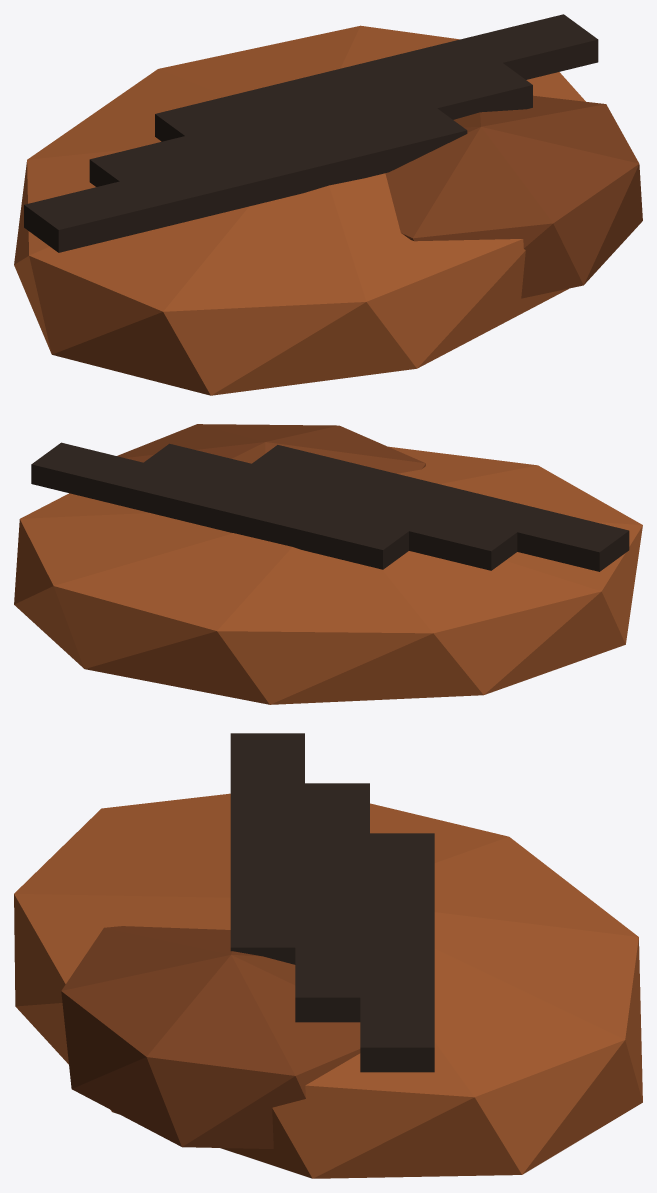
File: drop_steak_cooked.glb
The picture shows the model from 3 angles, top to bottom: view 1: azimuth 30°, elevation 25°; view 2: azimuth 150°, elevation 25°; view 3: azimuth 270°, elevation 25°; orthographic projection. The views are drawn at different scales.
Parts seen in each view (by area): view 1: drop_steak_cooked; view 2: drop_steak_cooked; view 3: drop_steak_cooked.
Part boxes in pixels (x1,y1,x2,y2): drop_steak_cooked: (14,14,642,395); drop_steak_cooked: (14,424,642,704); drop_steak_cooked: (14,733,642,1178).
Bounding box in the file's own units: 0.2207 × 0.059 × 0.186.
